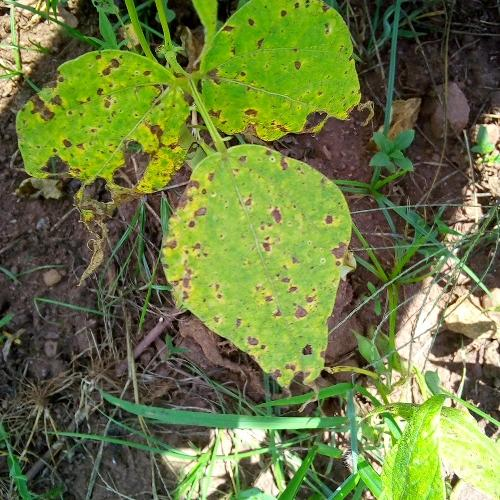hawar: (169, 149, 354, 375)
mozaik: (39, 128, 163, 218)
